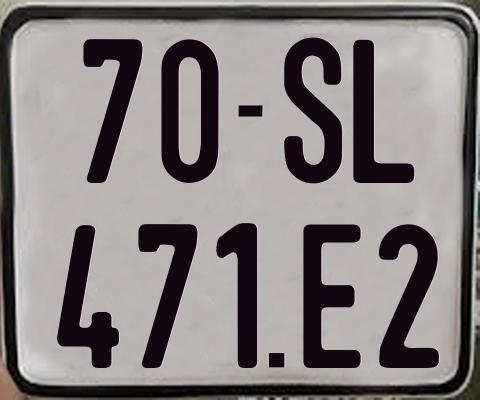0: (159, 36, 223, 185)
1: (214, 223, 256, 368)
2: (376, 222, 438, 372)
4: (54, 225, 120, 371)
7: (81, 36, 145, 185), (135, 222, 198, 366)
E: (300, 223, 361, 367)
L: (352, 40, 413, 189)
S: (284, 36, 346, 184)
